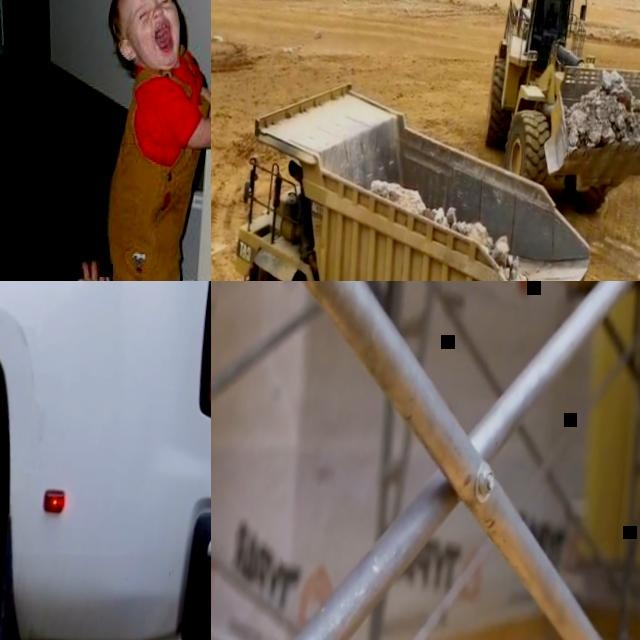NO-Hardhat: (104, 0, 161, 32)
NO-Mask: (128, 8, 190, 67)
NO-Safety Vest: (108, 52, 211, 242)
Person: (68, 0, 211, 281)
machinery: (211, 63, 609, 281), (474, 0, 640, 236)
vehicle: (0, 281, 211, 640)
